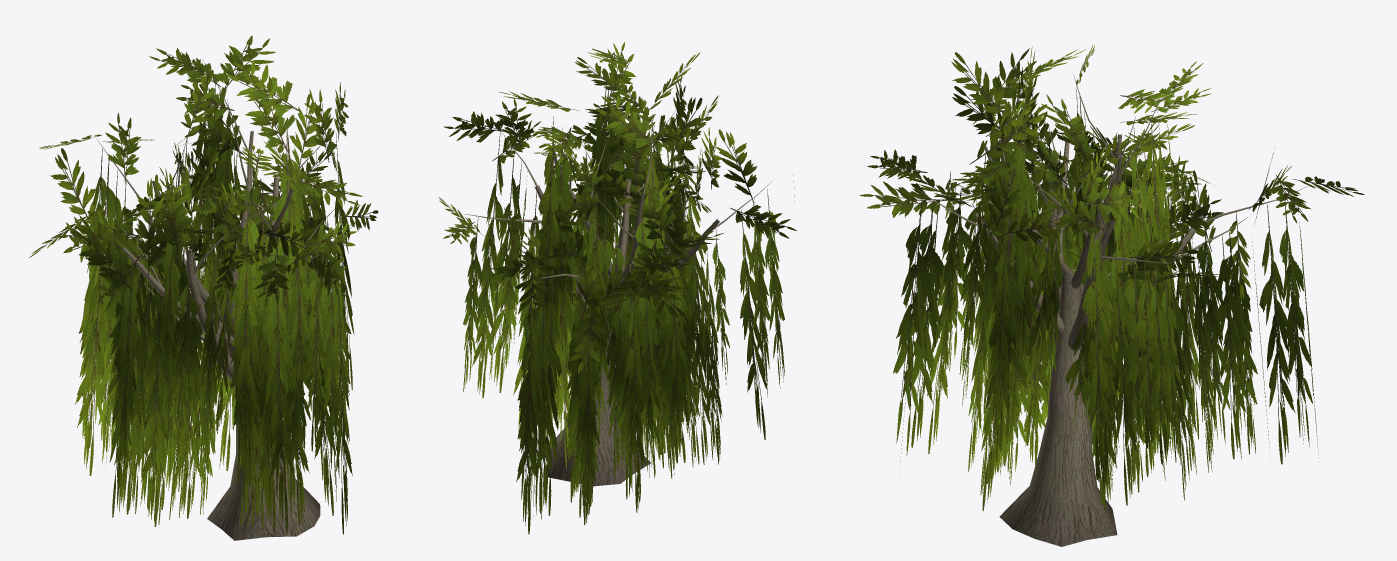
The model's file is tree_willow.glb.
3 renders of one model, left to right at view 1: azimuth 30°, elevation 25°; view 2: azimuth 150°, elevation 25°; view 3: azimuth 270°, elevation 25°, orthographic. The views are drawn at different scales.
Visible parts, largest first — view 1: plant; view 2: plant; view 3: plant.
Part boxes in pixels (x1=…): plant: x1=29, y1=35, x2=378, y2=540; plant: x1=438, y1=42, x2=796, y2=534; plant: x1=859, y1=45, x2=1364, y2=546.
Size of the model in its own units: 4.75 by 5.98 by 6.01.
2 materials, 2 textured.
